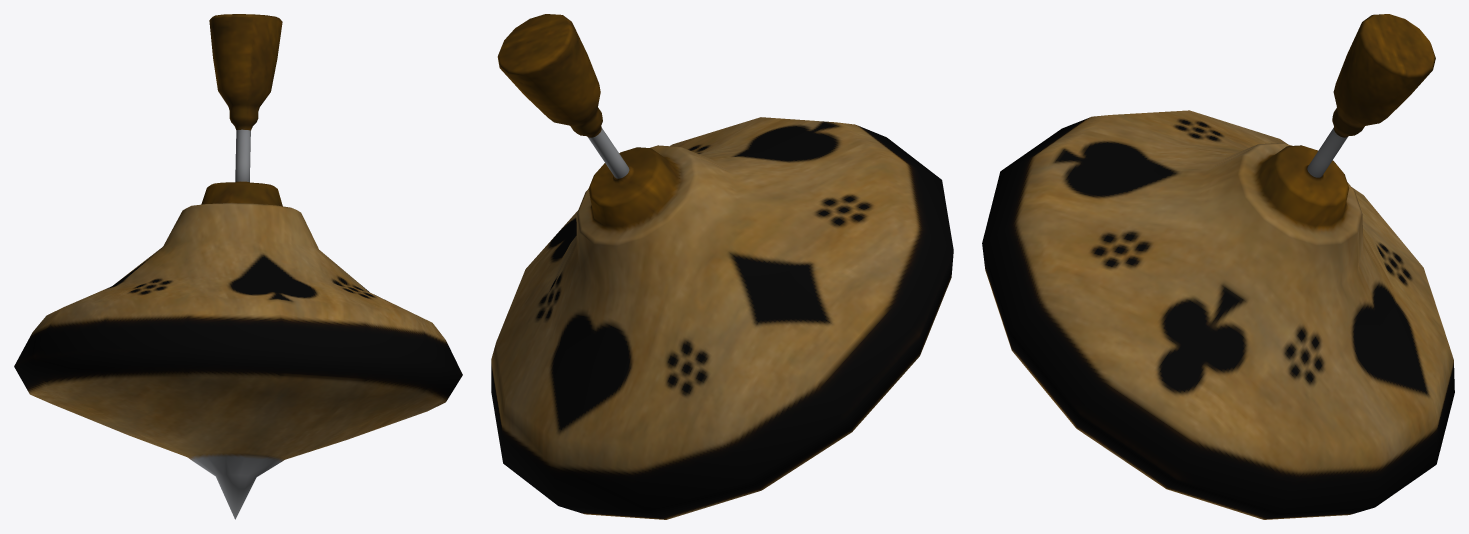
File: Spinning Top.fbx
The picture shows the model from 3 angles, left to right: view 1: azimuth 30°, elevation 25°; view 2: azimuth 150°, elevation 25°; view 3: azimuth 270°, elevation 25°; orthographic projection. The views are drawn at different scales.
Parts seen in each view (by area): view 1: Spinning_Top; view 2: Spinning_Top; view 3: Spinning_Top.
Boxes of the visible parts, x1=… form: Spinning_Top: x1=14, y1=14, x2=462, y2=519; Spinning_Top: x1=491, y1=14, x2=953, y2=519; Spinning_Top: x1=982, y1=14, x2=1454, y2=519.
Bounding box in the file's own units: 10.2 × 10.64 × 9.55.
Materials: 1 (1 with a texture image).
